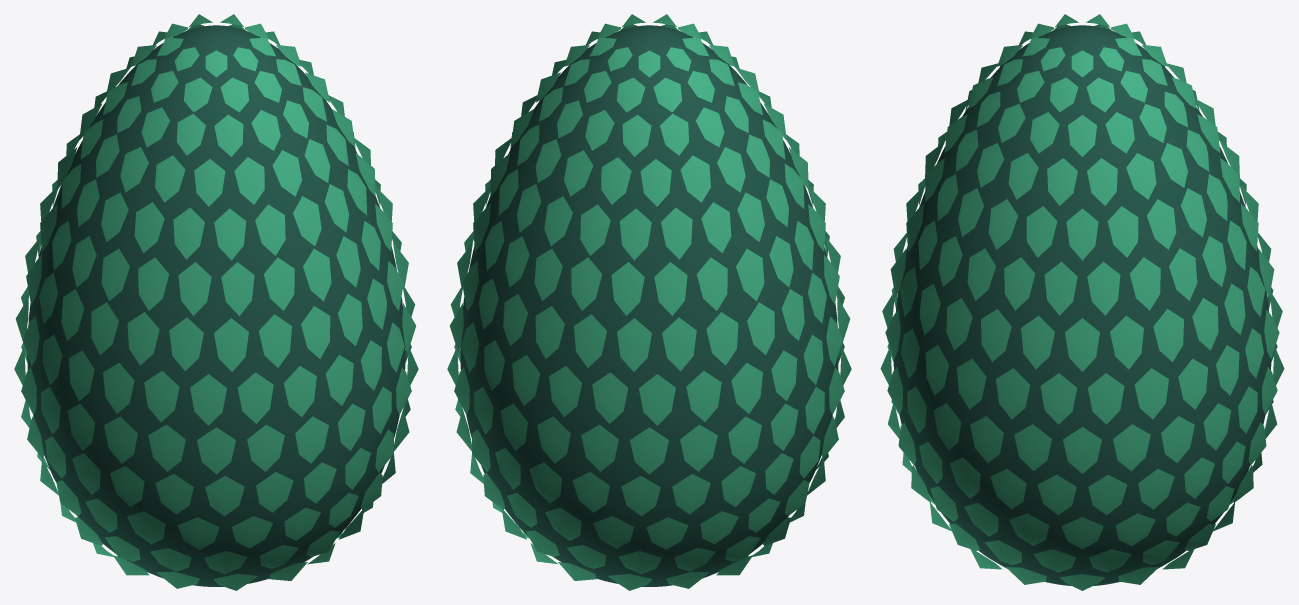
File: DragonEgg_Emerald.glb
3 renders of one model, left to right at view 1: azimuth 30°, elevation 25°; view 2: azimuth 150°, elevation 25°; view 3: azimuth 270°, elevation 25°, orthographic.
Visible parts, largest first — view 1: EggScales, EggShell; view 2: EggScales, EggShell; view 3: EggScales, EggShell.
Part boxes in pixels (x1,y1,x2,y2): EggScales: (14, 14, 418, 590); EggShell: (27, 25, 405, 586); EggScales: (447, 14, 851, 590); EggShell: (460, 25, 838, 586); EggScales: (880, 14, 1284, 590); EggShell: (893, 25, 1271, 585).
Size of the model in its own units: 1.09 by 1.6 by 1.09.
